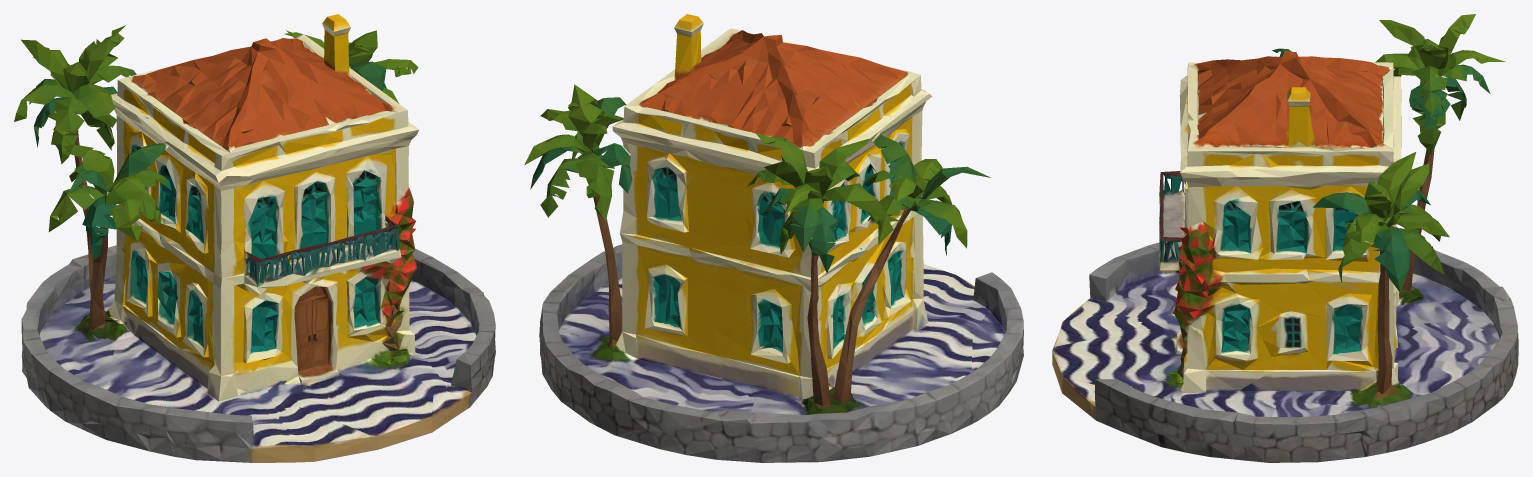
Rendered from rio-casarao.glb.
3 renders of one model, left to right at view 1: azimuth 30°, elevation 25°; view 2: azimuth 150°, elevation 25°; view 3: azimuth 270°, elevation 25°, orthographic. The views are drawn at different scales.
Visible parts, largest first — view 1: tripo_node_a4ff2d11-6cdf-44dd-995b-6074239aa3d5; view 2: tripo_node_a4ff2d11-6cdf-44dd-995b-6074239aa3d5; view 3: tripo_node_a4ff2d11-6cdf-44dd-995b-6074239aa3d5.
Part boxes in pixels (x1,y1,x2,y2): tripo_node_a4ff2d11-6cdf-44dd-995b-6074239aa3d5: (14, 14, 495, 462); tripo_node_a4ff2d11-6cdf-44dd-995b-6074239aa3d5: (524, 14, 1023, 462); tripo_node_a4ff2d11-6cdf-44dd-995b-6074239aa3d5: (1052, 14, 1518, 462).
Bounding box in the file's own units: 0.9962 × 0.752 × 0.997.
Materials: 1 (1 with a texture image).
